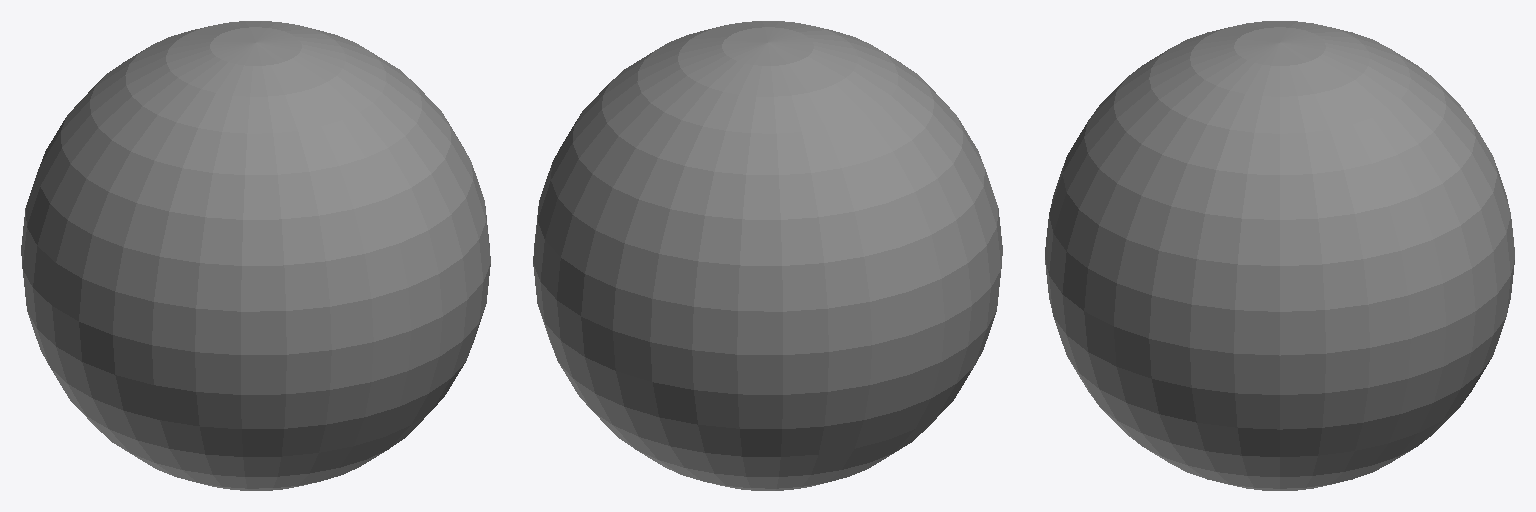
Rendered from ball1.obj.
3 views of the same model, side by side, from view 1: azimuth 30°, elevation 25°; view 2: azimuth 150°, elevation 25°; view 3: azimuth 270°, elevation 25° (orthographic).
Parts seen in each view (by area): view 1: Sphere001; view 2: Sphere001; view 3: Sphere001.
Part boxes in pixels (x1,y1,x2,y2): Sphere001: (21, 21, 490, 490); Sphere001: (533, 21, 1002, 490); Sphere001: (1045, 21, 1514, 490).
Size of the model in its own units: 75.15 by 75.15 by 75.15.